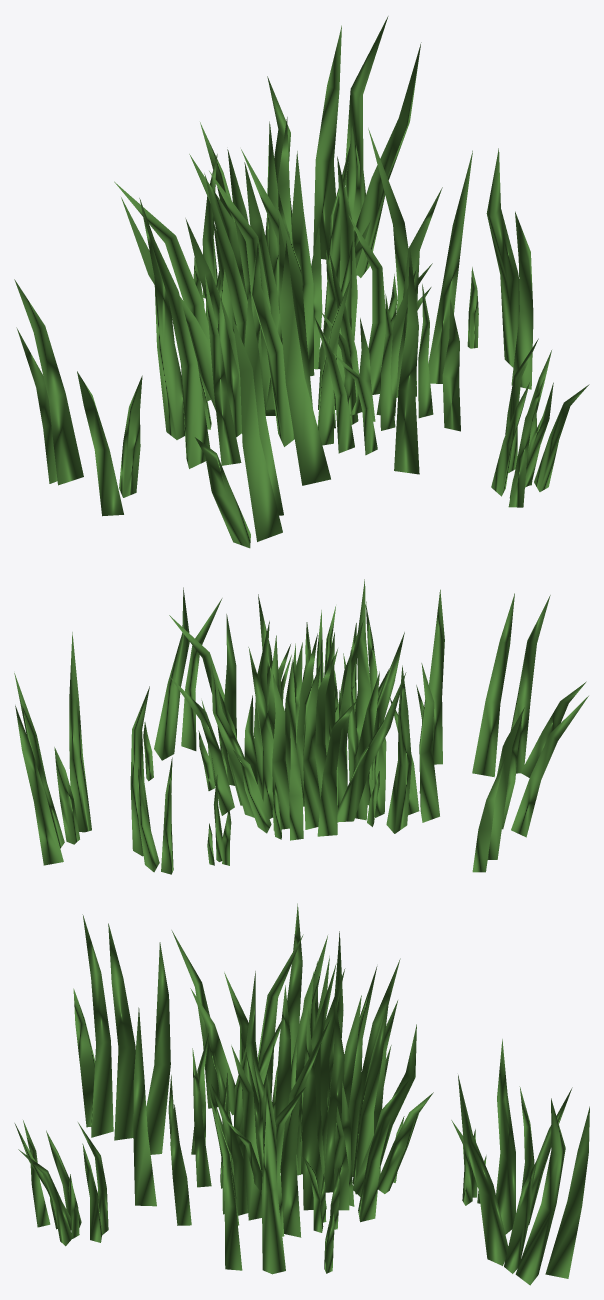
File: grass_green.glb
The picture shows the model from 3 angles, top to bottom: view 1: azimuth 30°, elevation 25°; view 2: azimuth 150°, elevation 25°; view 3: azimuth 270°, elevation 25°; orthographic projection. The views are drawn at different scales.
Visible parts, largest first — view 1: group1744197509, group1681983211, group1697339476, group443349435, group1255547812, group678362861, group908757786, group54891894, group2043014497, group208637188, group2019195407, group1825840008 (+48 smaller); view 2: group343340000, group2043014497, group908757786, group54891894, group1255547812, group612556706, group1697339476, group277299665, group902223660, group1681983211, group46854911, group228620189 (+37 smaller); view 3: group343340000, group1681983211, group1744197509, group54891894, group1661925368, group2043014497, group1255547812, group252032136, group678362861, group1101659140, group619381689, group1072724566 (+44 smaller).
Boxes of the visible parts, bbox=[...] form: group1744197509: bbox=[279, 241, 330, 485]; group1681983211: bbox=[232, 316, 282, 541]; group1697339476: bbox=[143, 215, 210, 468]; group443349435: bbox=[14, 279, 83, 485]; group1255547812: bbox=[313, 25, 341, 259]; group678362861: bbox=[394, 246, 419, 474]; group908757786: bbox=[139, 198, 184, 439]; group54891894: bbox=[486, 148, 519, 367]; group2043014497: bbox=[354, 42, 421, 277]; group208637188: bbox=[428, 150, 472, 383]; group2019195407: bbox=[250, 243, 294, 446]; group1825840008: bbox=[205, 275, 241, 465]; group343340000: bbox=[472, 593, 514, 777]; group2043014497: bbox=[69, 632, 91, 832]; group908757786: bbox=[386, 665, 411, 833]; group54891894: bbox=[154, 587, 189, 760]; group1255547812: bbox=[15, 705, 63, 865]; group612556706: bbox=[303, 664, 320, 829]; group1697339476: bbox=[419, 663, 439, 822]; group277299665: bbox=[337, 672, 406, 822]; group902223660: bbox=[317, 701, 356, 836]; group1681983211: bbox=[510, 595, 550, 773]; group46854911: bbox=[272, 674, 289, 830]; group228620189: bbox=[511, 696, 588, 837]; group343340000: bbox=[108, 923, 135, 1140]; group1681983211: bbox=[82, 914, 113, 1137]; group1744197509: bbox=[146, 942, 170, 1154]; group54891894: bbox=[261, 1072, 285, 1274]; group1661925368: bbox=[515, 1098, 565, 1285]; group2043014497: bbox=[458, 1075, 508, 1265]; group1255547812: bbox=[545, 1106, 589, 1278]; group252032136: bbox=[281, 1020, 329, 1237]; group678362861: bbox=[133, 1007, 156, 1206]; group1101659140: bbox=[496, 1039, 515, 1234]; group619381689: bbox=[302, 1008, 326, 1210]; group1072724566: bbox=[352, 996, 389, 1194].
Size of the model in its own units: 0.5831 by 0.2873 by 0.6368.
